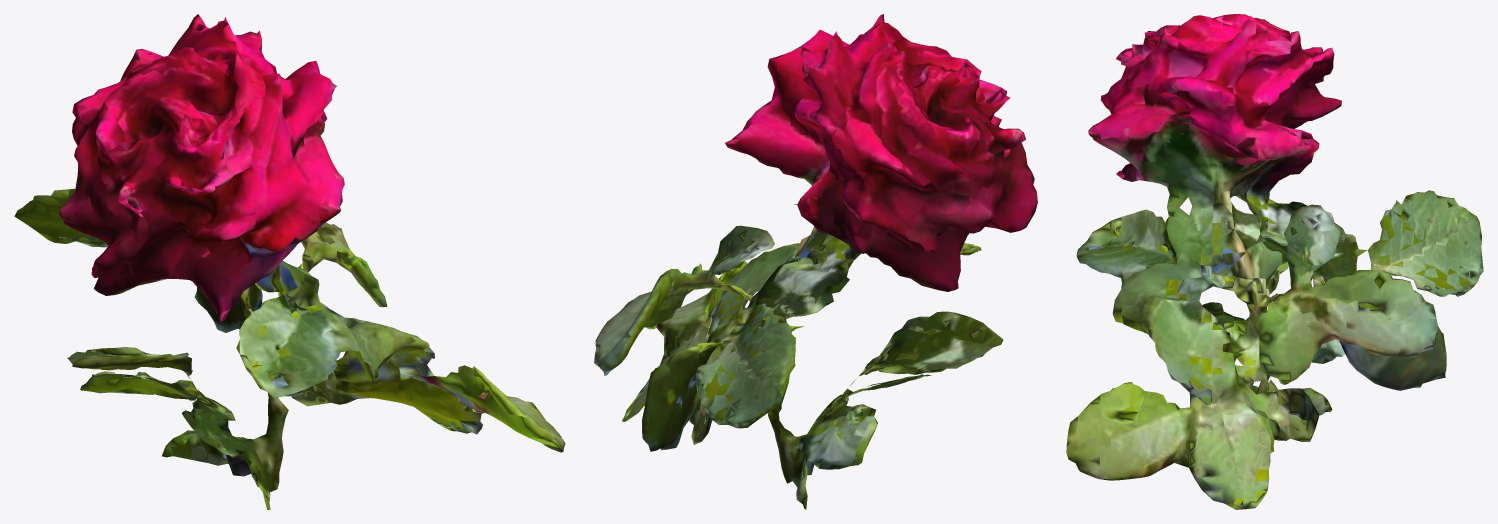
3 views of the same model, side by side, from view 1: azimuth 30°, elevation 25°; view 2: azimuth 150°, elevation 25°; view 3: azimuth 270°, elevation 25° (orthographic). The views are drawn at different scales.
Visible parts, largest first — view 1: 4cc57c2b; view 2: 4cc57c2b; view 3: 4cc57c2b.
Boxes of the visible parts, box(x1,y1,x2,y2) form: 4cc57c2b: box(14, 14, 565, 509); 4cc57c2b: box(594, 14, 1037, 509); 4cc57c2b: box(1066, 14, 1483, 509).
Size of the model in its own units: 0.078 by 0.0834 by 0.078.
1 material, 1 textured.
